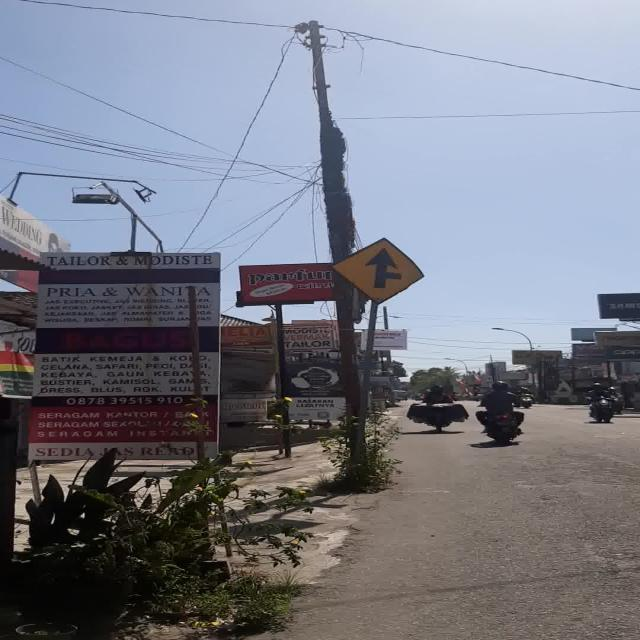Persimpangan 3 Prioritas Kanan: (331, 237, 424, 305)
